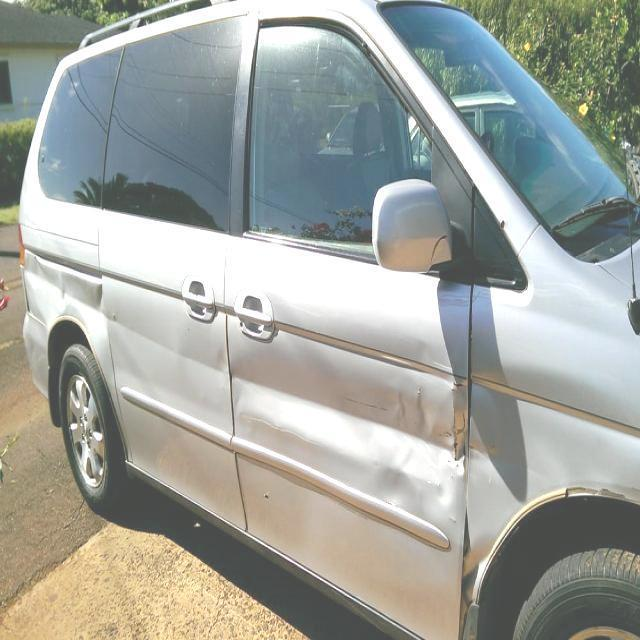minor: (376, 460, 458, 536)
moderate: (233, 358, 466, 476), (22, 248, 102, 360), (471, 379, 532, 505)
